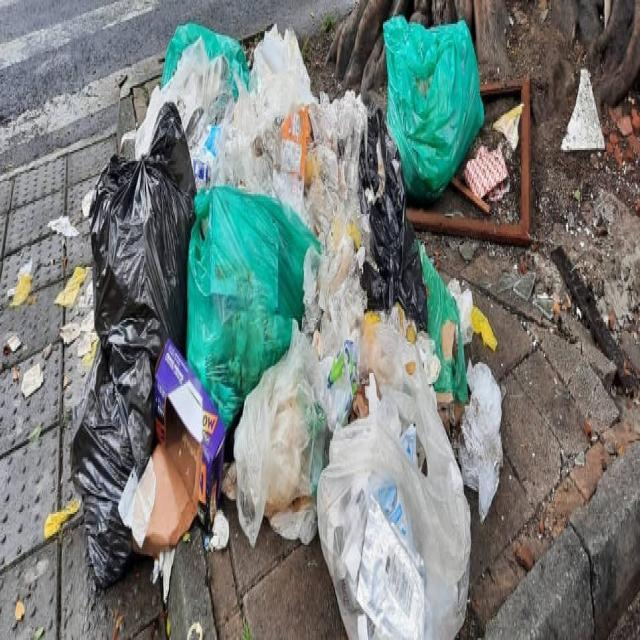Trashbag: (65, 326, 168, 592), (81, 115, 203, 339), (353, 114, 427, 330)
